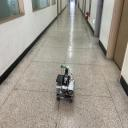cart: (56, 76, 74, 104)
